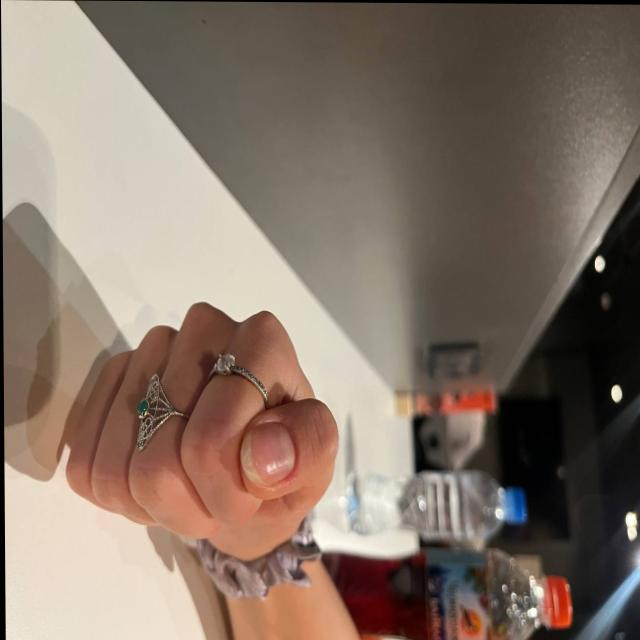a: (59, 307, 346, 571)
